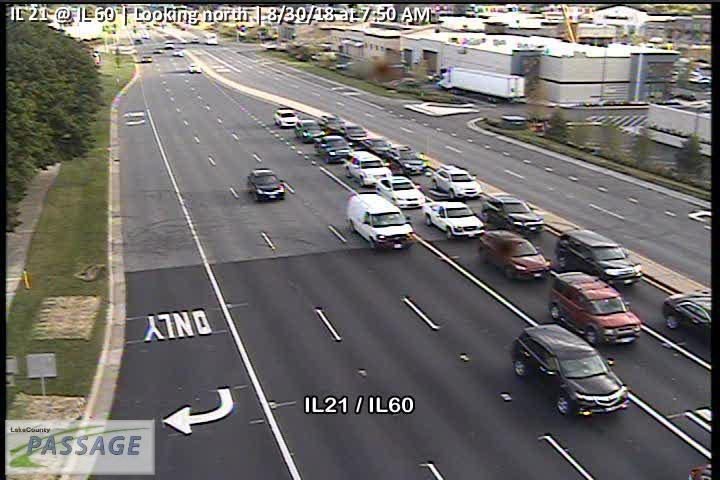SUV: (510, 323, 630, 416), (548, 271, 643, 345), (556, 228, 643, 287), (345, 193, 415, 250), (478, 229, 552, 282), (482, 194, 545, 235), (431, 164, 483, 199), (345, 150, 392, 187), (384, 144, 429, 174), (247, 168, 286, 202), (314, 135, 352, 161), (337, 122, 369, 145), (295, 119, 325, 143), (360, 136, 391, 156), (273, 107, 299, 129)
Sedan: (662, 292, 713, 336), (376, 176, 425, 210)
Truck: (422, 200, 486, 240)
